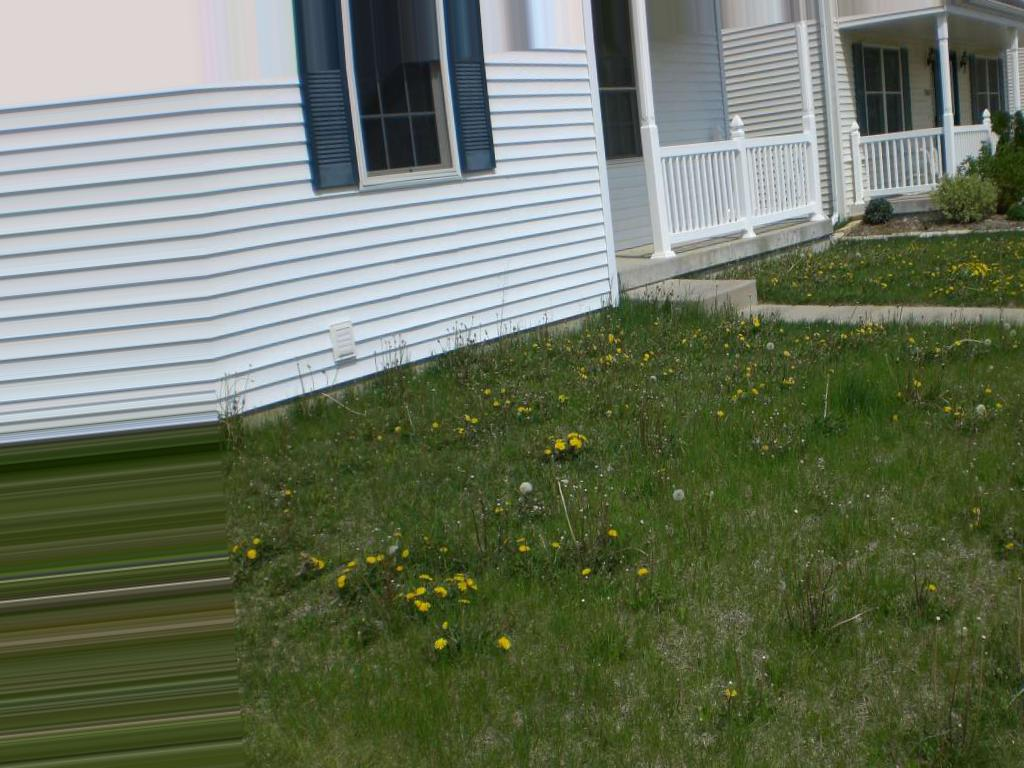patch: (919, 543, 1024, 614), (660, 615, 779, 663)
